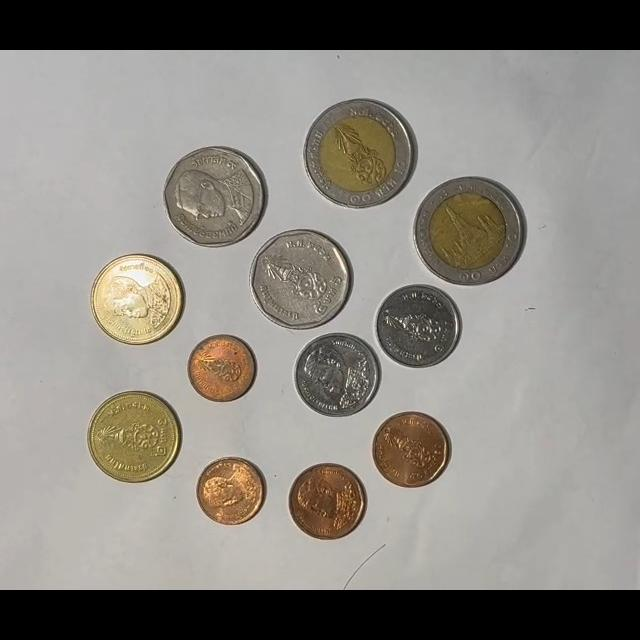1-baht: (374, 284, 461, 370), (293, 333, 380, 418)
10-baht: (303, 98, 417, 210), (413, 176, 526, 286)
2-baht: (87, 391, 182, 483), (90, 254, 183, 347)
25-satang: (195, 457, 267, 527), (187, 334, 256, 402)
5-baht: (163, 146, 267, 248), (250, 229, 353, 331)
50-satang: (288, 462, 367, 541), (372, 412, 450, 489)
